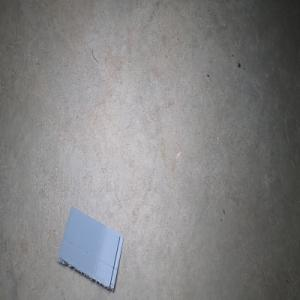PlasticPart: (56, 205, 124, 292)
